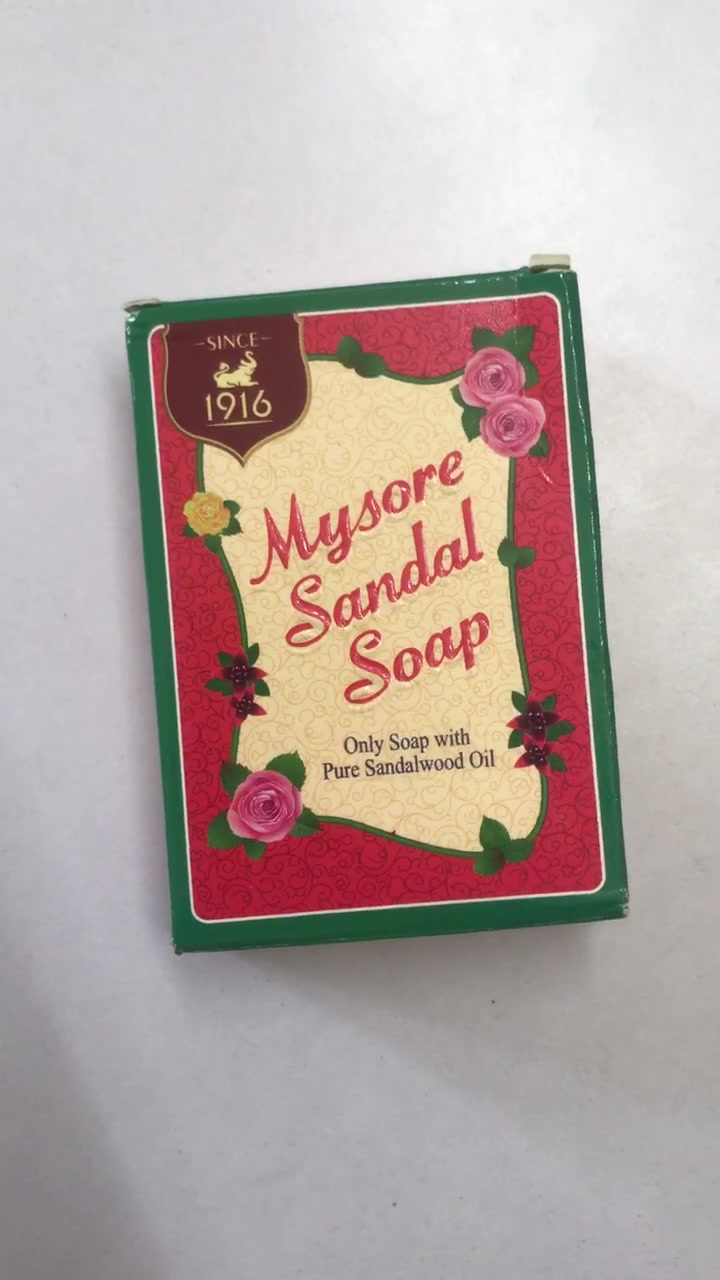mysore sandal soap: (128, 277, 630, 948)
